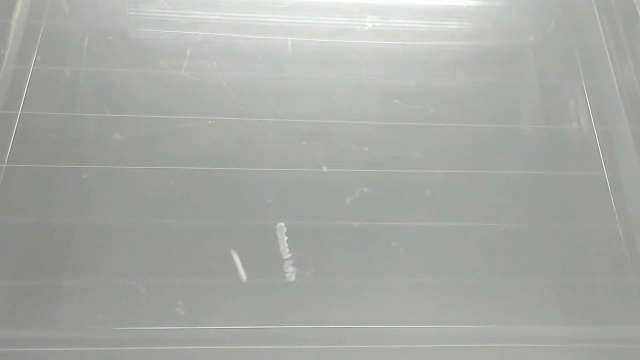alpha: (273, 218, 299, 284), (226, 245, 250, 283)
